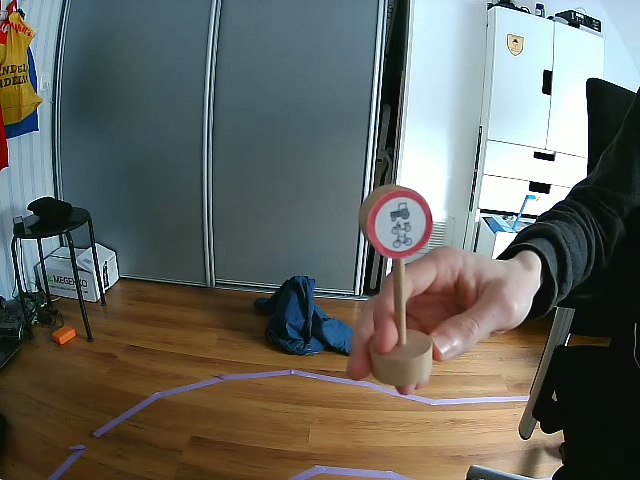fietspad: (369, 188, 432, 260)
